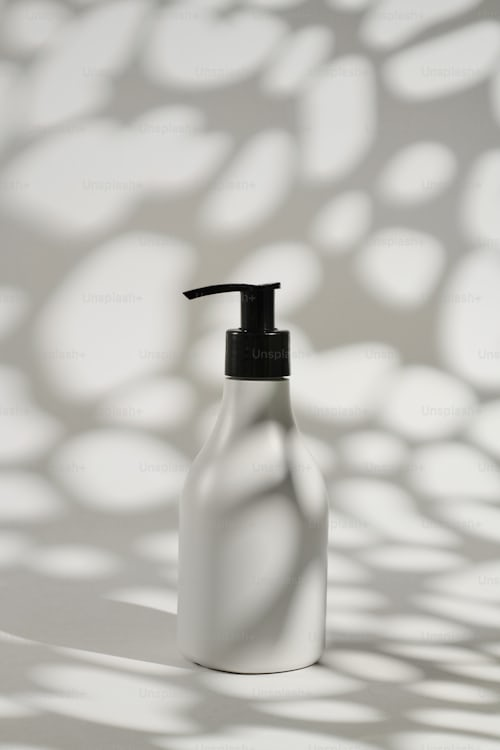Spray: (147, 269, 355, 693)
